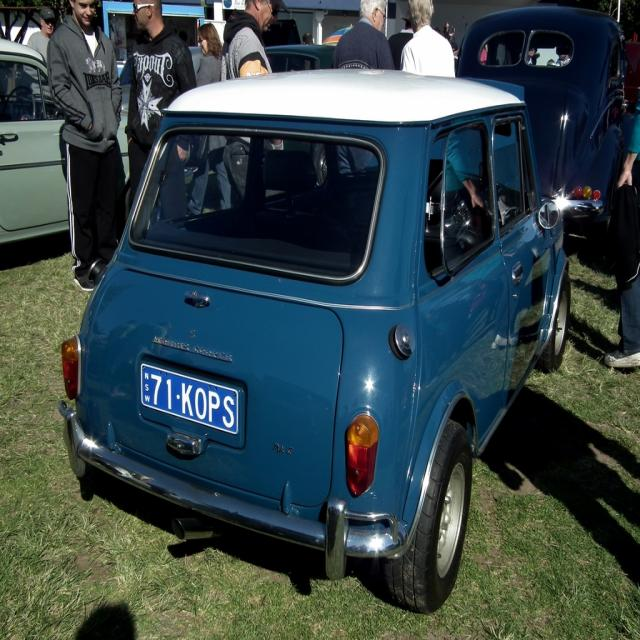car: (53, 42, 590, 617)
